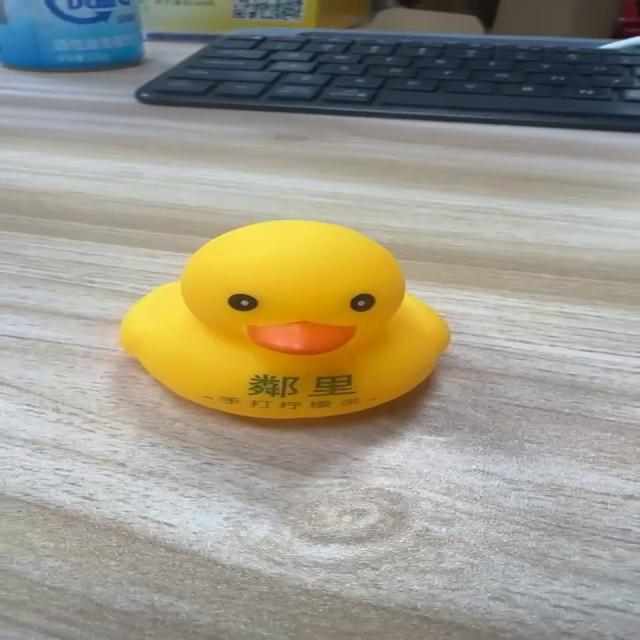yellow_duck: (117, 217, 453, 420)
